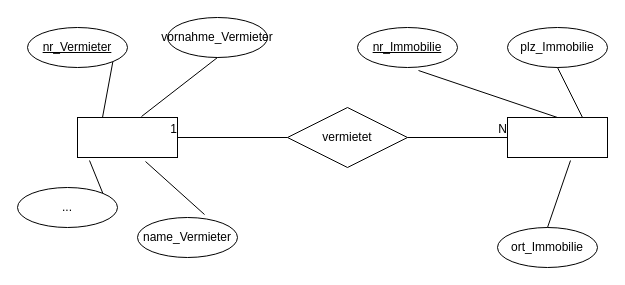
Some shapes in this 625 by 285 pixel diagram are drawn without their labels. Each missing label, with the centre of its shape:
Immobilie: the point at 557,137
Vermieter: the point at 127,137
